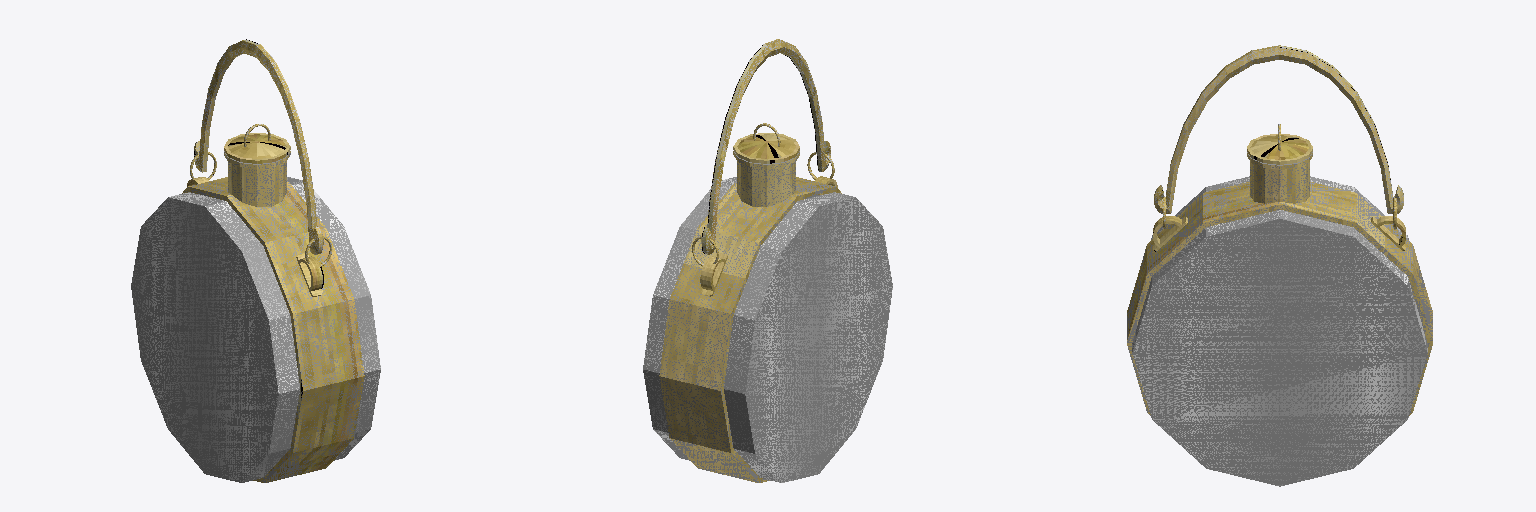
3 views of the same model, side by side, from view 1: azimuth 30°, elevation 25°; view 2: azimuth 150°, elevation 25°; view 3: azimuth 270°, elevation 25° (orthographic).
Parts seen in each view (by area): view 1: mesh11_mesh11-geometry, mesh18_mesh18-geometry, mesh10_mesh10-geometry, mesh1.001_mesh1-geometry, mesh6.001_mesh6-geometry; view 2: mesh11_mesh11-geometry, mesh18_mesh18-geometry, mesh10_mesh10-geometry, mesh1.001_mesh1-geometry, mesh8.001_mesh8-geometry; view 3: mesh11_mesh11-geometry, mesh18_mesh18-geometry, mesh10_mesh10-geometry, mesh1.001_mesh1-geometry, mesh6.001_mesh6-geometry, mesh8.001_mesh8-geometry.
Boxes of the visible parts, x1,y1,x2,y2 form: mesh11_mesh11-geometry: [131, 177, 380, 482]; mesh18_mesh18-geometry: [194, 39, 323, 254]; mesh10_mesh10-geometry: [224, 151, 290, 206]; mesh1.001_mesh1-geometry: [224, 133, 290, 163]; mesh6.001_mesh6-geometry: [296, 253, 323, 296]; mesh11_mesh11-geometry: [643, 177, 892, 482]; mesh18_mesh18-geometry: [701, 39, 830, 254]; mesh10_mesh10-geometry: [733, 151, 799, 206]; mesh1.001_mesh1-geometry: [733, 133, 799, 163]; mesh8.001_mesh8-geometry: [700, 253, 727, 296]; mesh11_mesh11-geometry: [1127, 176, 1432, 486]; mesh18_mesh18-geometry: [1154, 45, 1403, 213]; mesh10_mesh10-geometry: [1247, 152, 1312, 203]; mesh1.001_mesh1-geometry: [1247, 134, 1312, 164]; mesh6.001_mesh6-geometry: [1153, 216, 1187, 251]; mesh8.001_mesh8-geometry: [1371, 216, 1405, 250].
Bounding box in the file's own units: 0.2075 × 0.8167 × 0.5385.
Materials: 4 (2 with a texture image).